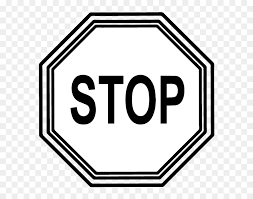SS: (37, 14, 216, 187)
